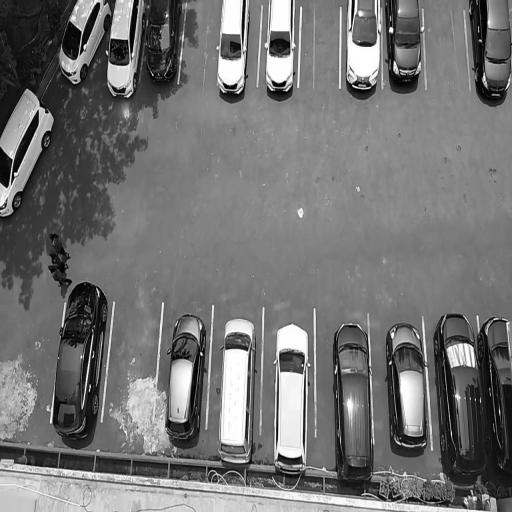Car: (433, 306, 489, 492), (50, 276, 108, 443), (330, 315, 378, 487), (0, 80, 56, 222), (381, 317, 431, 462), (216, 312, 260, 470), (162, 298, 209, 445), (272, 317, 313, 478), (478, 306, 510, 488), (56, 0, 107, 95), (468, 0, 512, 104), (384, 0, 428, 102), (105, 0, 144, 107), (260, 0, 300, 102), (344, 0, 382, 99), (217, 0, 251, 100), (145, 0, 180, 97)
Space Available: (115, 293, 152, 444), (303, 0, 338, 95), (426, 0, 462, 91), (187, 0, 215, 100)
